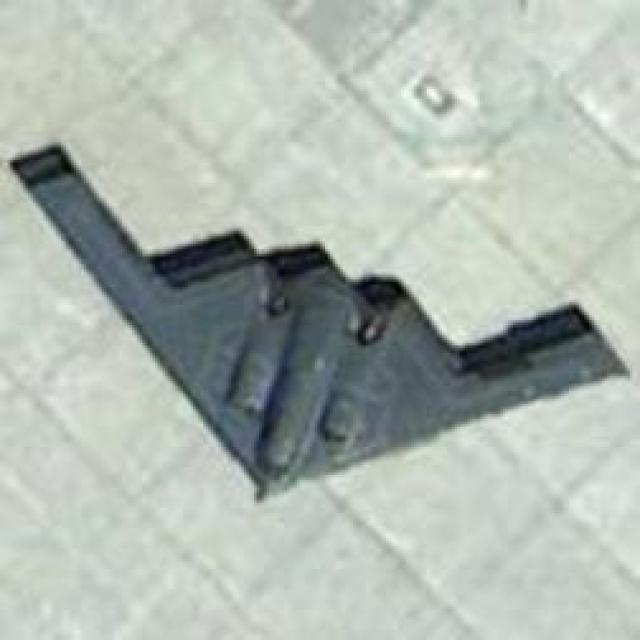B-2_TopDown: (5, 137, 630, 503)
